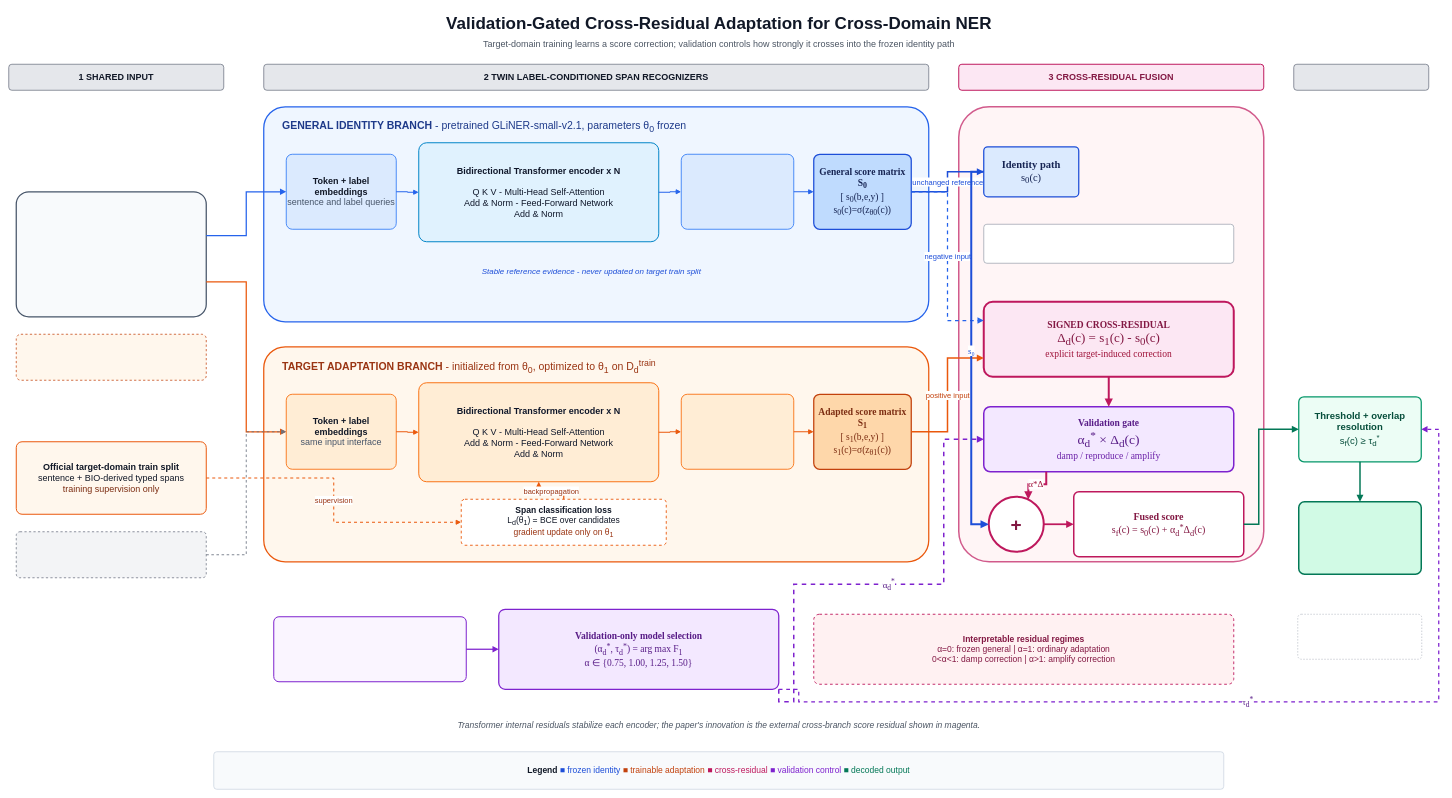
Some shapes in this 1452 by 798 pixel diagram are drawn without their labels. The shapes that lost their labels are listed below. From the top down, each one's centre as x and y in pixels, then its label:
At pixel 1361 77: "4 DECODE".
At pixel 737 191: "Span-label interaction h b:e ⊗ q y compatibility head g θ0".
At pixel 111 254: "Sentence x token sequence Domain label set Y d textual entity descriptions".
At pixel 1108 243: "Candidate union C ∪ = C 0 ∪ C 1 missing score = 0".
At pixel 111 357: "Matched tokenization, label descriptions, candidate construction and decoding".
At pixel 737 431: "Span-label interaction h b:e ⊗ q y compatibility head g θ1".
At pixel 111 554: "Copy θ 0 → θ 1 same model family; different final parameters".
At pixel 1360 538: "Typed entity spans P d (x) = {(b,e,y)} strict boundary + type".
At pixel 369 649: "Official development split select α and threshold τ only no test-label access".
At pixel 1359 636: "No trainable fusion network candidate-wise arithmetic only".
